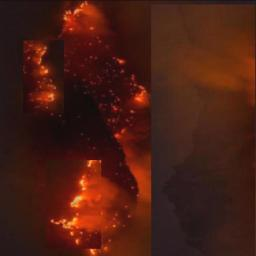Low smoke: (114, 0, 256, 256)
Medium fire: (18, 6, 163, 256)
